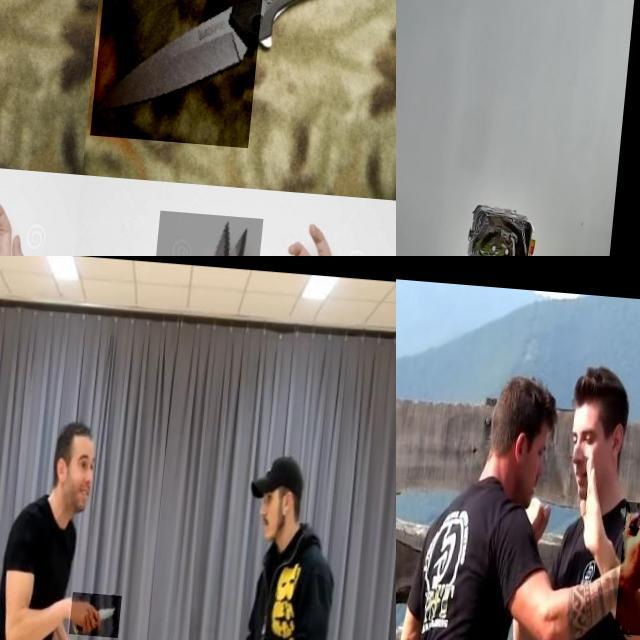-: (96, 0, 266, 139), (0, 0, 72, 128), (150, 203, 270, 256), (620, 492, 640, 628), (76, 587, 128, 633)
gun-knife-thesis - v11 Yolov5 augmented: (396, 180, 439, 256)
